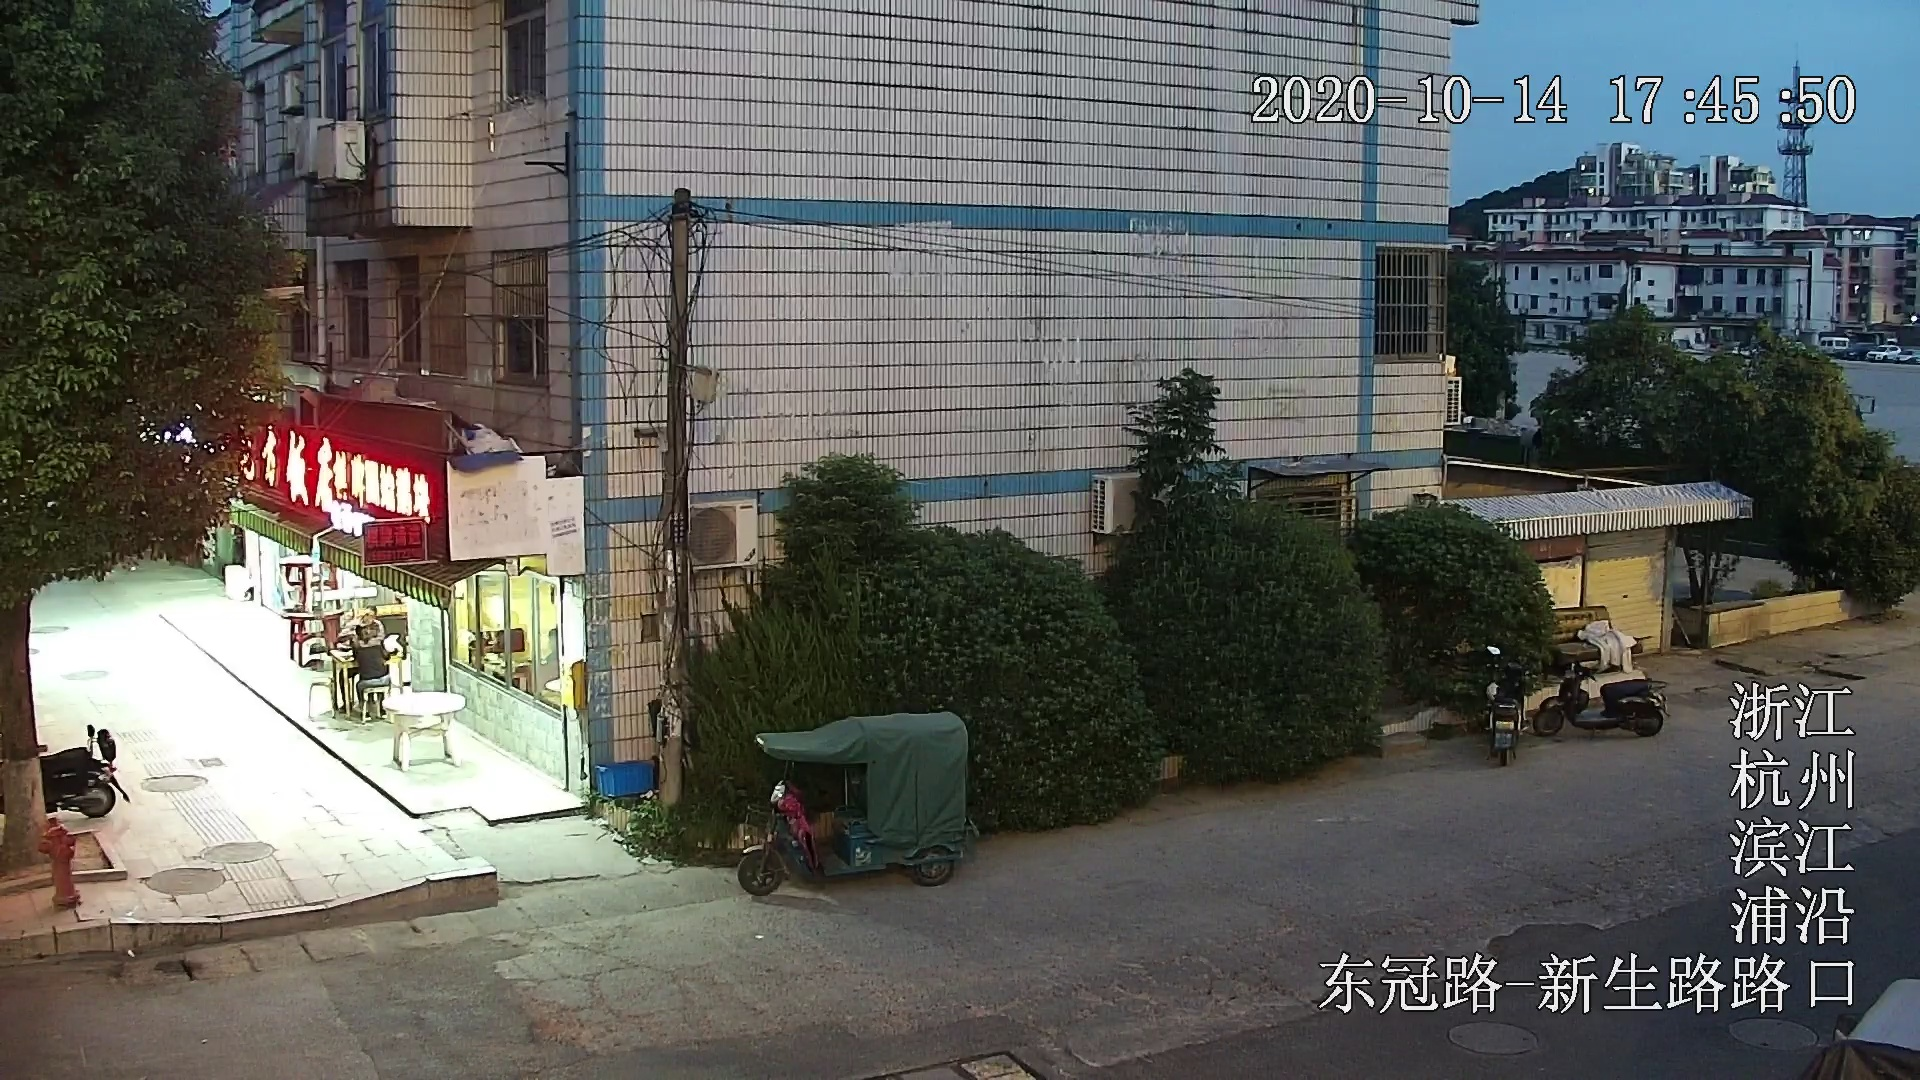chair: (306, 675, 336, 720), (361, 684, 392, 724)
table: (381, 690, 465, 770), (328, 646, 404, 721), (280, 611, 344, 667), (276, 555, 342, 611)
table_chair: (305, 645, 405, 725)
